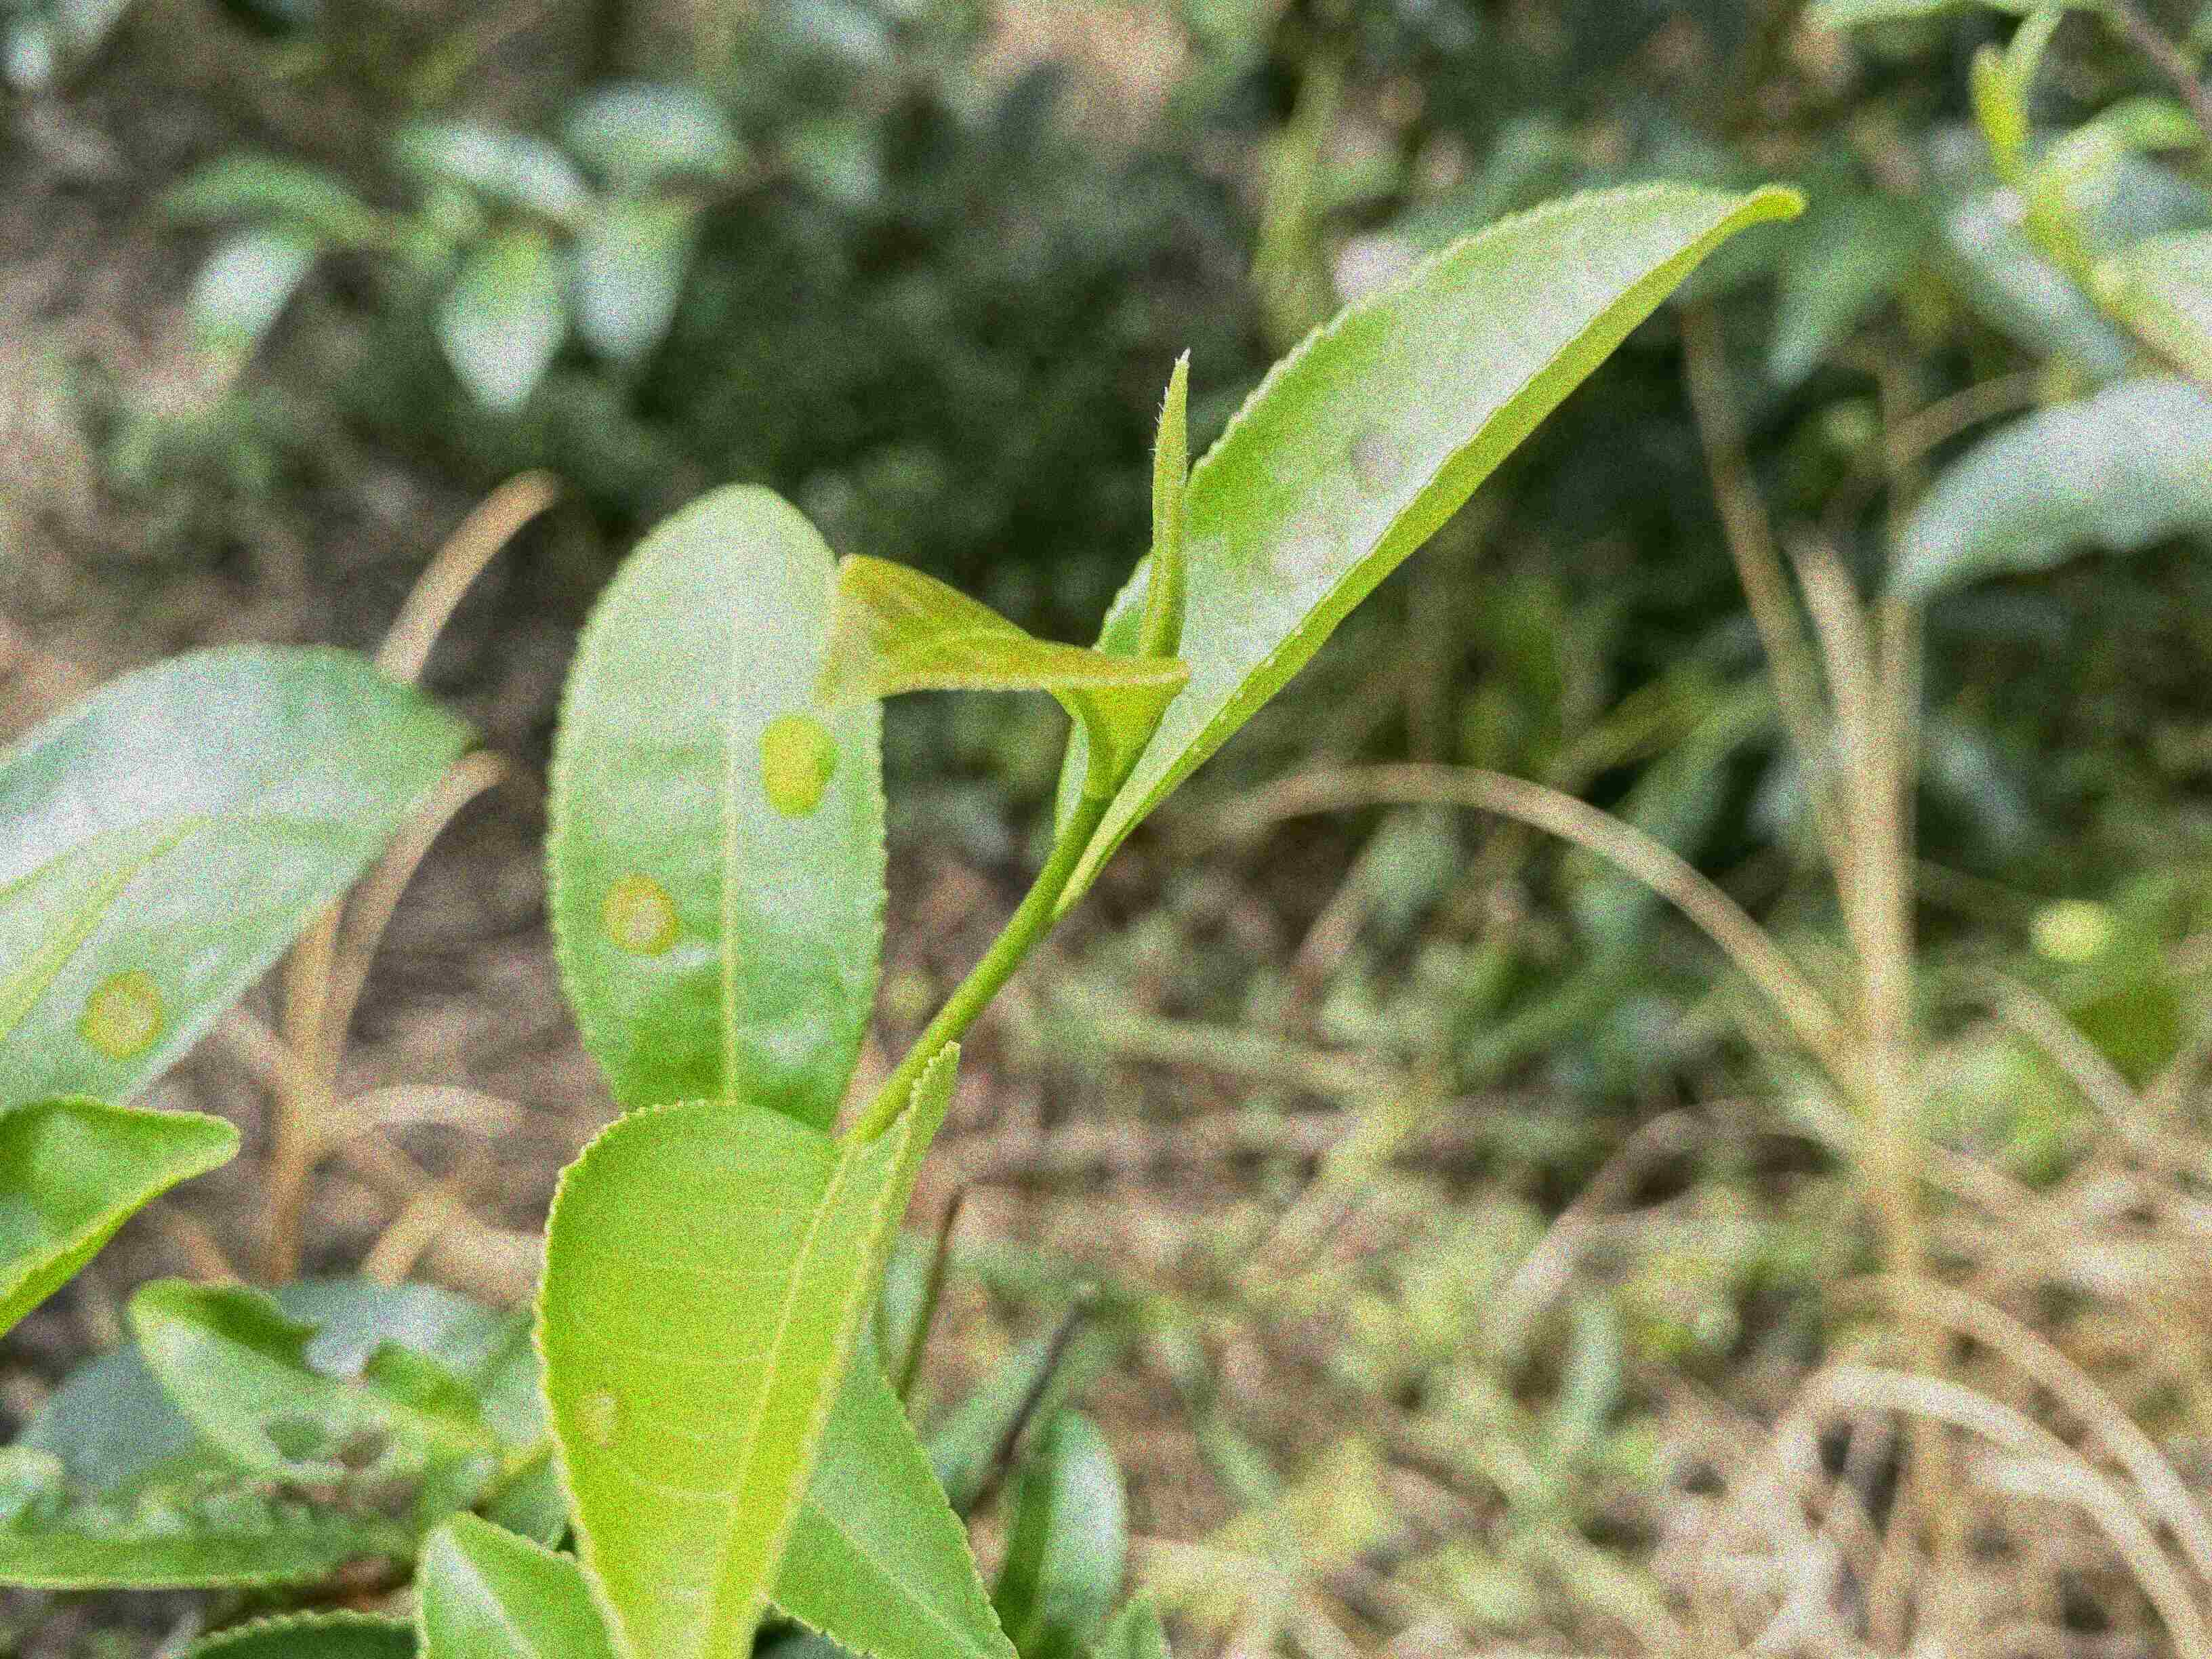chabing_high: (1057, 178, 1810, 899), (540, 481, 894, 1105)
chabing_low: (528, 1040, 961, 1657), (2, 641, 467, 1110)
chihuo_high: (131, 1272, 503, 1485)
healthy: (0, 1096, 239, 1340), (416, 1509, 620, 1656)
tanju_low: (806, 552, 1197, 735)
